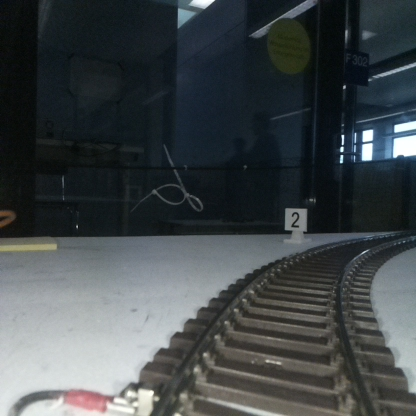white-stop-2: (285, 209, 306, 242)
